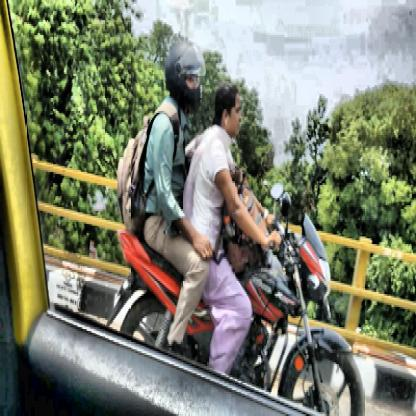not_wear: (217, 77, 242, 136)
wear: (167, 42, 205, 119)
